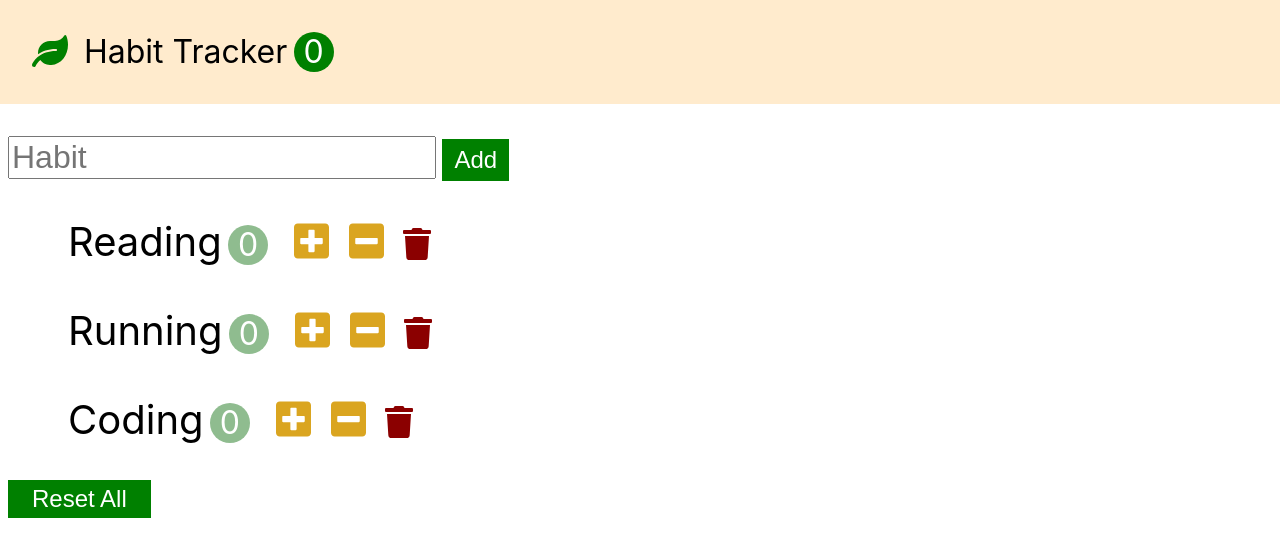
Test case: habit tracer › deltes an item
Step 1. Click the button titled "delete" in the row of "Reading" → (417, 246), box top-left (397, 226), bottom-right (437, 265)
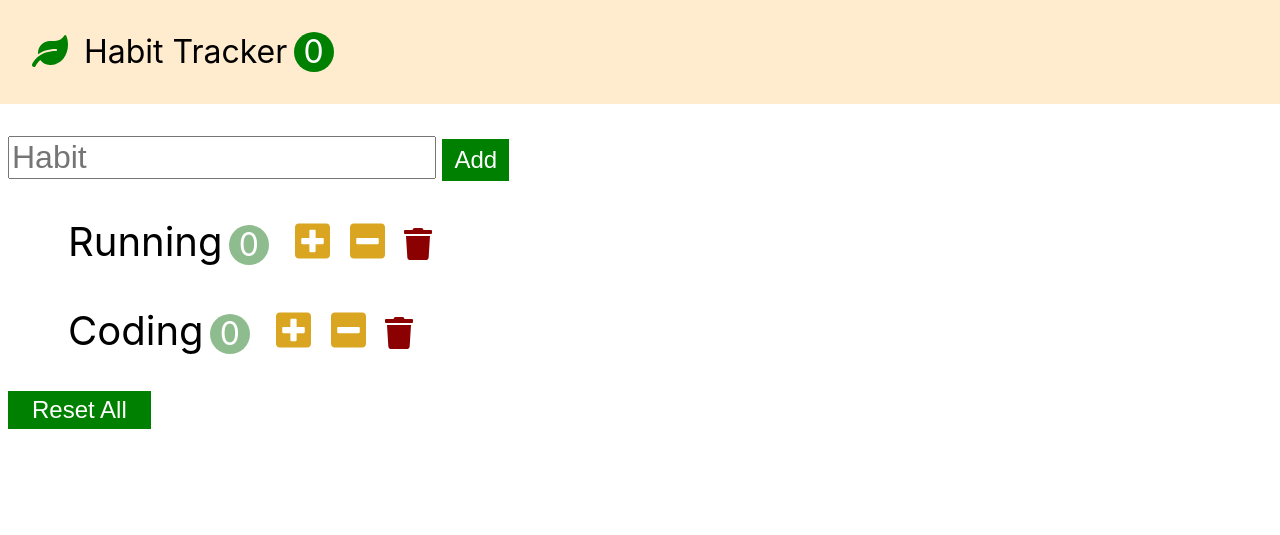
Now the text "Reading" is gone
